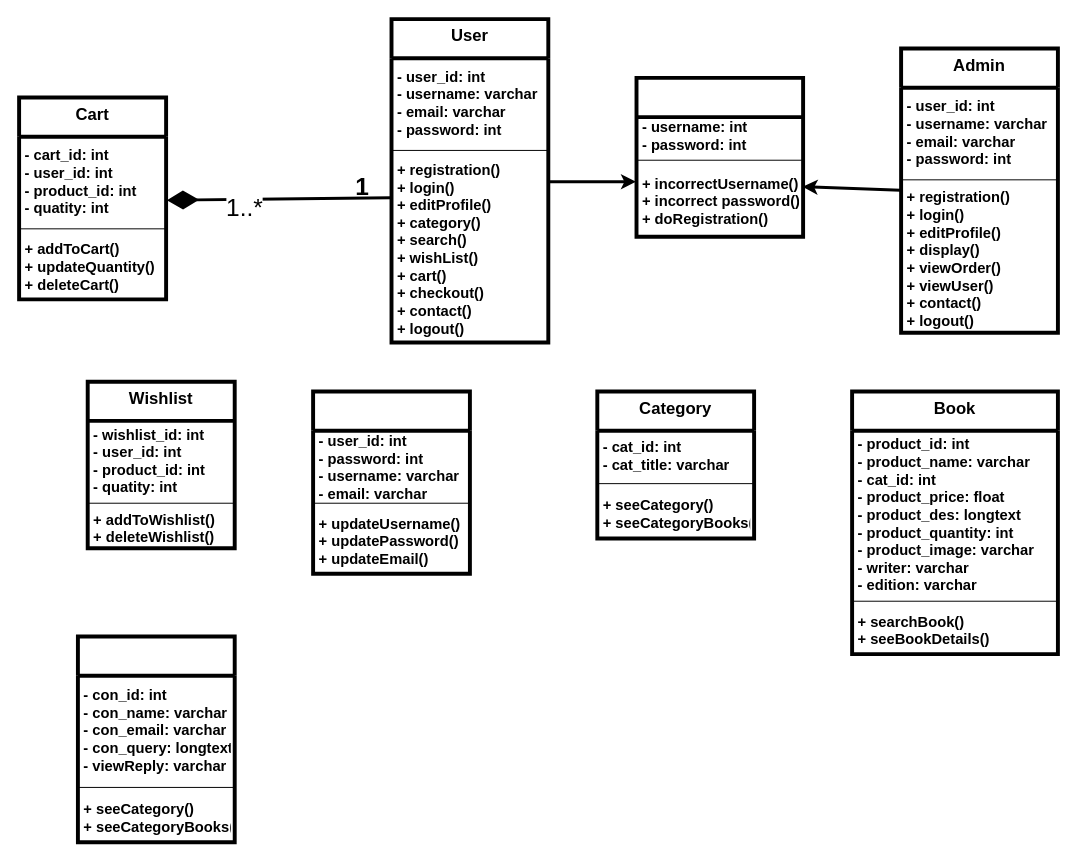
This 1076x860 diagram has some shape labels left out. The shapes that lost their labels are listed below. From the top down, each one's box as (x1, y1, x2, y2) in pixels, then its label:
(634, 75, 805, 238): Verification
(311, 389, 471, 575): Edit Profile
(75, 634, 236, 844): Contact
